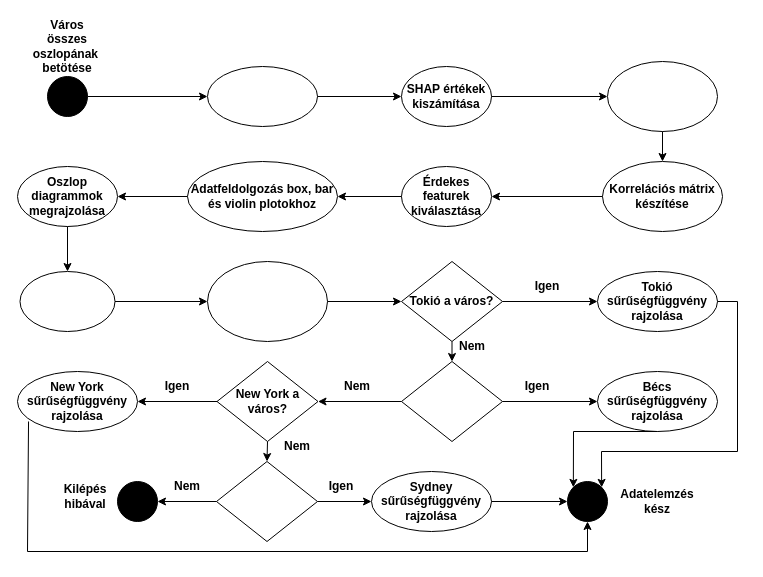
This 763x577 diagram has some shape labels left out. The shapes that lost their labels are listed below. From the top down, each one's centre as x and y in pixels, then its label:
(262,96): Regressziós modellek létrehozása
(662,96): SHAP diagrammok megrajzolása
(67,301): Box plotok megrajzolása
(267,301): Violin plotok megrajzolása
(451,401): Bécs a város?
(267,501): Sydney a város?
